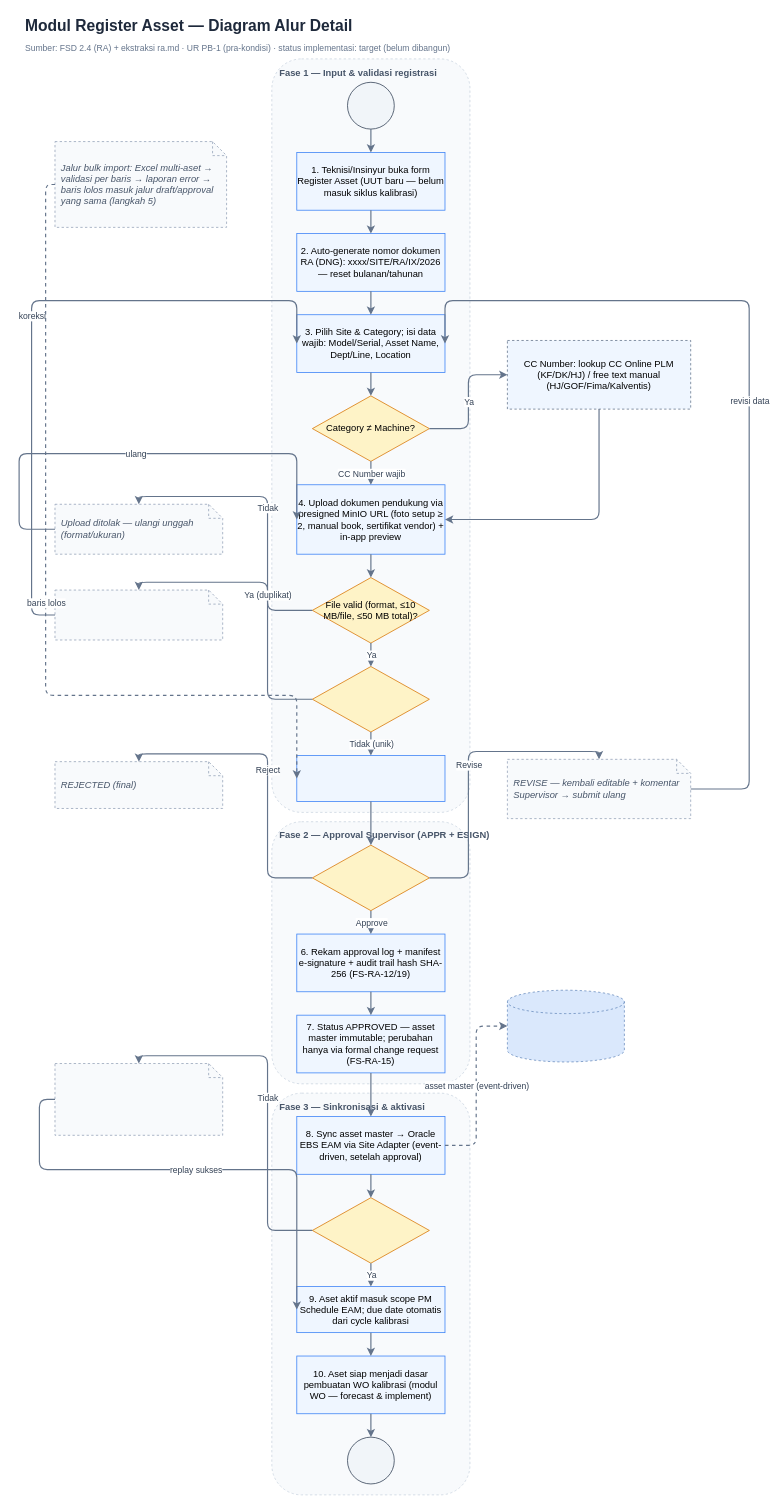
This 783x1509 diagram has some shape labels left out. The shapes that lost their labels are listed below. From the top down, each one's centre as x and y in pixels, then its label:
(370,105): Mulai
(138,614): Submit ditolak — koreksi input
(370,699): Duplikat tag ID?
(370,778): 5. Submit — Draft → Submitted; data terkunci, edit hanya saat Draft (FS-RA-16)
(370,877): Keputusan Supervisor?
(565,1025): Oracle EBS EAM
(138,1099): Retry: antrean + replay (syn_oracle_dlq; backoff 1m/5m/30m/2h/12h/24h)
(370,1230): Oracle tersedia?
(370,1460): Selesai
